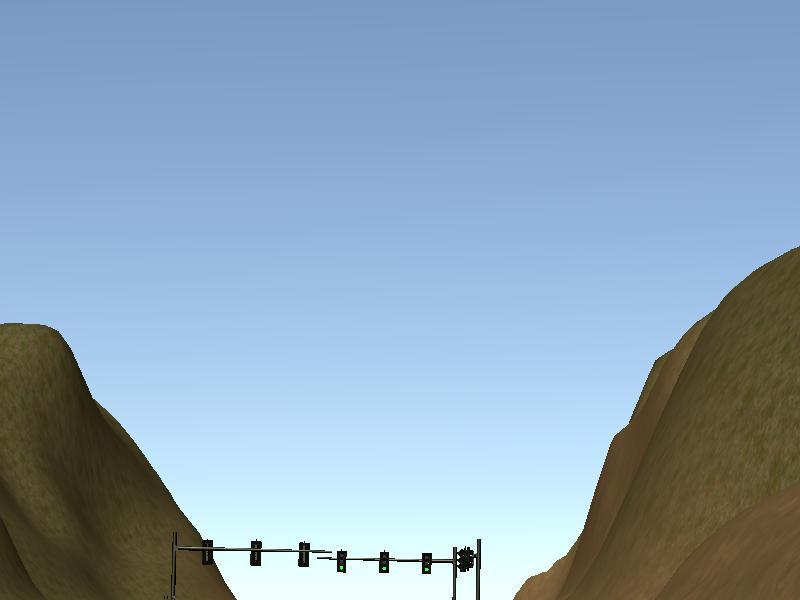Green: (422, 552, 432, 575), (336, 551, 346, 573), (379, 552, 388, 573)
